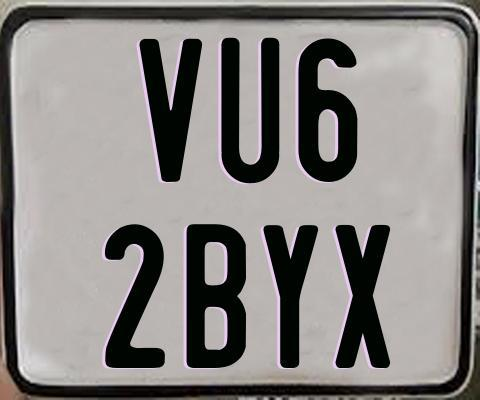2: (102, 223, 167, 373)
6: (296, 38, 362, 185)
B: (184, 221, 246, 367)
U: (219, 35, 283, 180)
V: (136, 36, 203, 180)
X: (333, 224, 392, 367)
Y: (261, 224, 318, 370)
